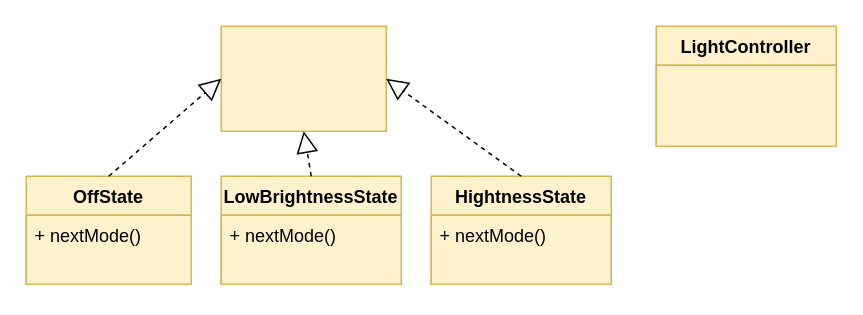
The diagram is 863 pixels wide and 315 high, and some of its shapes have lost their labels. The shapes that lost their labels are listed below. From the top down, each one's box as (x1, y1, x2, y2) in pixels, then its label:
(220, 25, 386, 131): <<Interface>> State + nextMode():
(655, 64, 836, 146): + getCurrentState() + pressButton()
